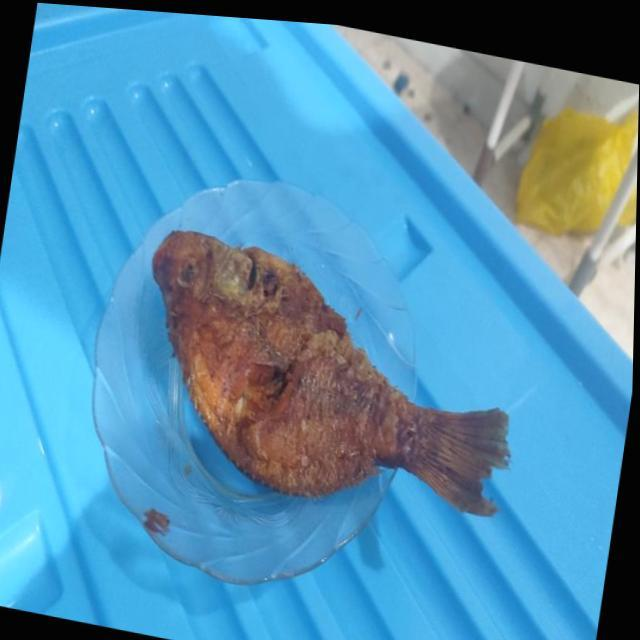ikan_mujair: (152, 230, 510, 516)
